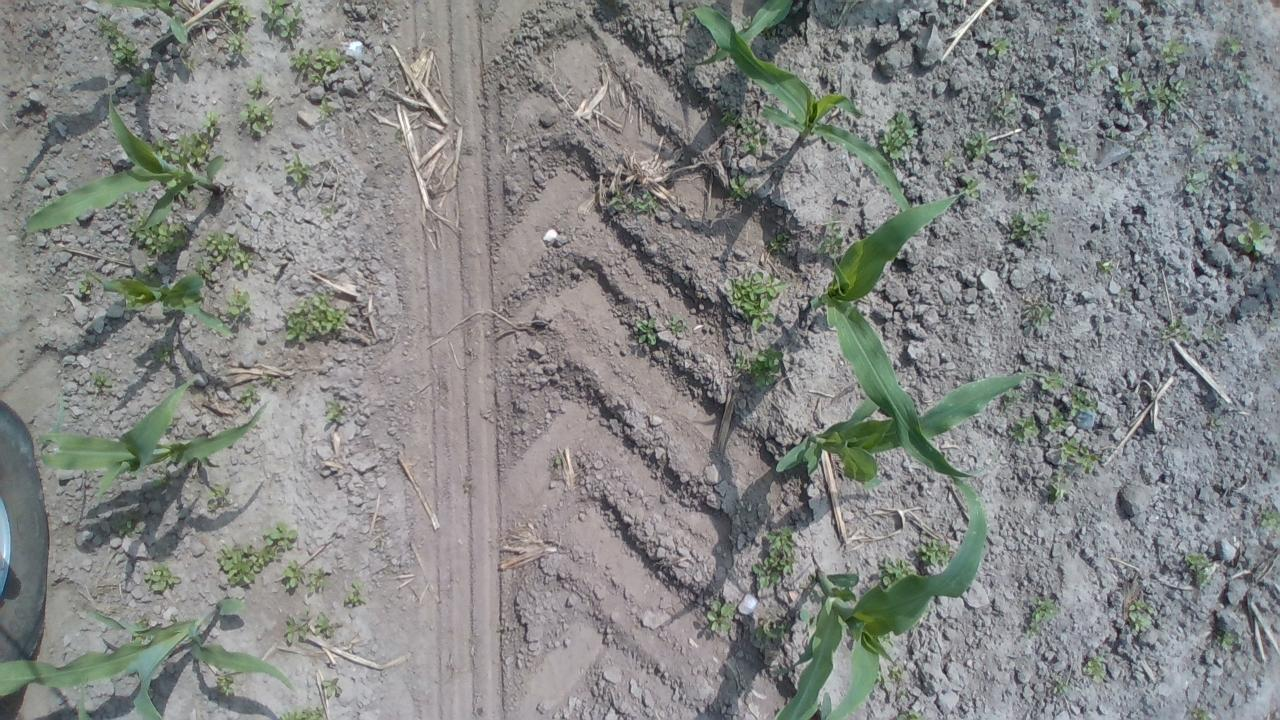Maize: (756, 474, 998, 720), (808, 182, 981, 482), (692, 3, 919, 222), (0, 580, 307, 720), (766, 366, 1044, 484), (32, 95, 221, 234), (51, 376, 272, 494), (98, 273, 236, 343), (700, 0, 811, 68), (122, 0, 199, 48)
Weeds: (748, 527, 808, 589), (728, 268, 788, 328), (283, 286, 345, 344), (730, 344, 788, 392), (126, 212, 192, 254), (720, 104, 770, 156), (291, 47, 351, 90), (200, 229, 253, 274), (97, 16, 140, 68), (218, 544, 268, 584), (1060, 437, 1110, 477), (876, 108, 912, 162), (1142, 73, 1190, 113), (1022, 591, 1057, 645), (164, 132, 219, 166), (1016, 292, 1064, 328), (1012, 207, 1052, 250), (1124, 593, 1160, 640), (881, 552, 921, 590), (1053, 139, 1091, 179), (265, 0, 304, 38), (990, 90, 1024, 132), (915, 534, 951, 572), (1180, 548, 1218, 584), (757, 612, 791, 652), (704, 598, 738, 636), (142, 564, 182, 595), (242, 101, 276, 137), (1066, 386, 1100, 422), (725, 174, 762, 207), (1156, 32, 1188, 70), (1113, 71, 1144, 109), (1234, 218, 1269, 250), (266, 520, 298, 555), (812, 220, 842, 257), (630, 314, 664, 346), (1221, 146, 1257, 176), (949, 168, 983, 199), (1096, 2, 1125, 38), (1080, 647, 1108, 684), (310, 610, 342, 642), (280, 152, 312, 184), (228, 289, 255, 326), (663, 307, 694, 338), (984, 36, 1016, 66), (964, 128, 994, 160), (1010, 164, 1042, 194), (227, 0, 258, 30), (766, 219, 796, 250), (630, 189, 662, 218), (881, 658, 909, 691), (1161, 315, 1192, 344), (1047, 469, 1075, 501), (320, 396, 350, 425), (278, 560, 306, 591), (218, 31, 250, 58), (305, 562, 333, 592), (1049, 670, 1076, 700), (198, 111, 230, 136), (1180, 169, 1208, 197), (205, 479, 233, 507), (1082, 48, 1112, 74), (1010, 412, 1036, 442), (344, 575, 369, 606), (279, 705, 330, 720), (1213, 622, 1235, 656), (282, 614, 306, 645), (598, 190, 630, 212), (86, 366, 113, 392), (1256, 503, 1280, 532), (890, 704, 930, 720), (1213, 28, 1238, 52), (1093, 254, 1118, 278), (213, 672, 236, 697), (247, 75, 270, 100), (1032, 371, 1062, 390), (1047, 408, 1067, 436), (238, 386, 262, 409), (133, 67, 158, 89), (117, 520, 143, 541), (1187, 702, 1217, 720), (1002, 384, 1021, 411), (320, 675, 342, 697), (260, 376, 282, 398), (316, 100, 336, 124), (80, 274, 94, 296), (552, 455, 562, 470)
